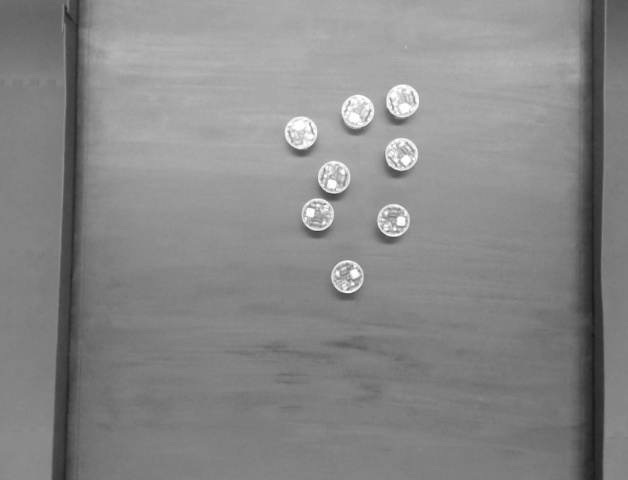epuck_2: (333, 87, 379, 135), (294, 194, 342, 240), (322, 256, 374, 295), (367, 199, 414, 240), (312, 155, 357, 197), (281, 115, 326, 153), (385, 80, 423, 122), (383, 133, 419, 175)
